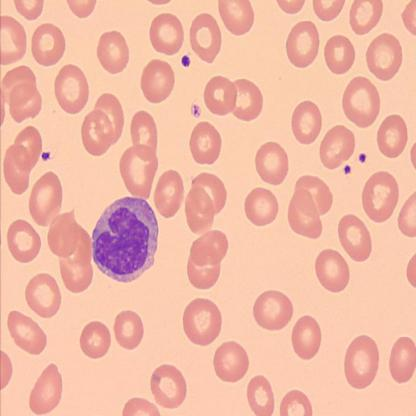Monocyte: (90, 195, 159, 284)
